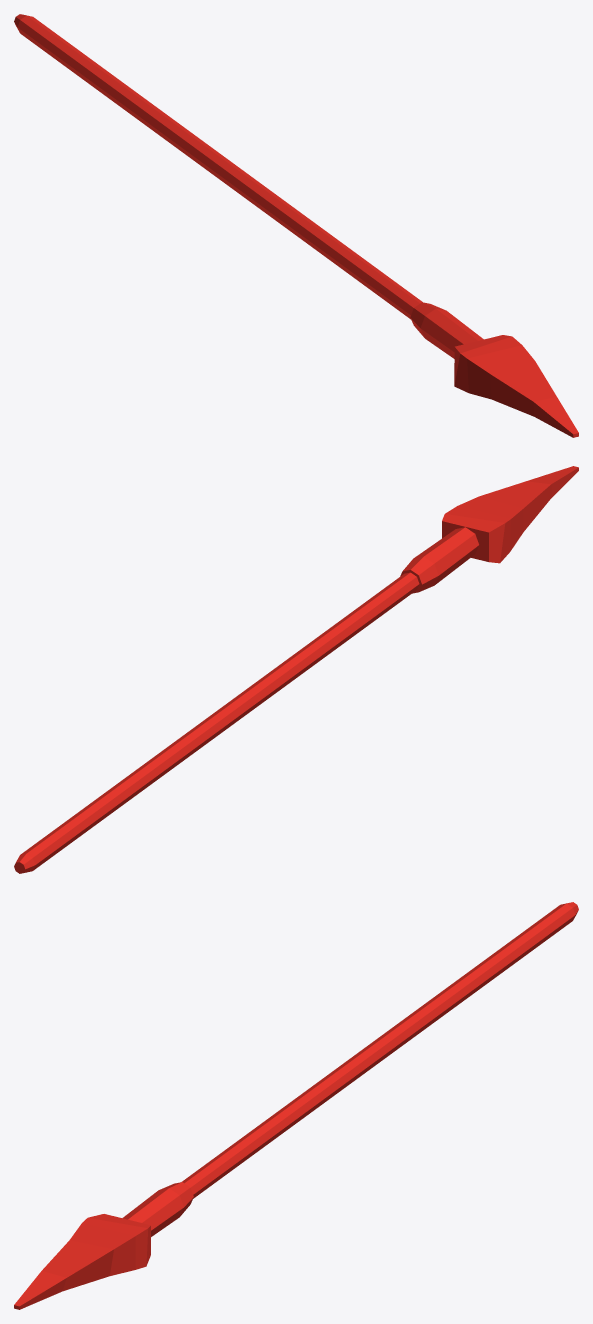
Rendered from JavelineModel.fbx.
3 renders of one model, top to bottom at view 1: azimuth 30°, elevation 25°; view 2: azimuth 150°, elevation 25°; view 3: azimuth 330°, elevation 25°, orthographic. The views are drawn at different scales.
Parts seen in each view (by area): view 1: Cube; view 2: Cube; view 3: Cube.
Part boxes in pixels (x1,y1,x2,y2): Cube: [14, 14, 578, 437]; Cube: [14, 466, 578, 873]; Cube: [14, 902, 578, 1309].
Bounding box in the file's own units: 31.46 × 20.28 × 535.
